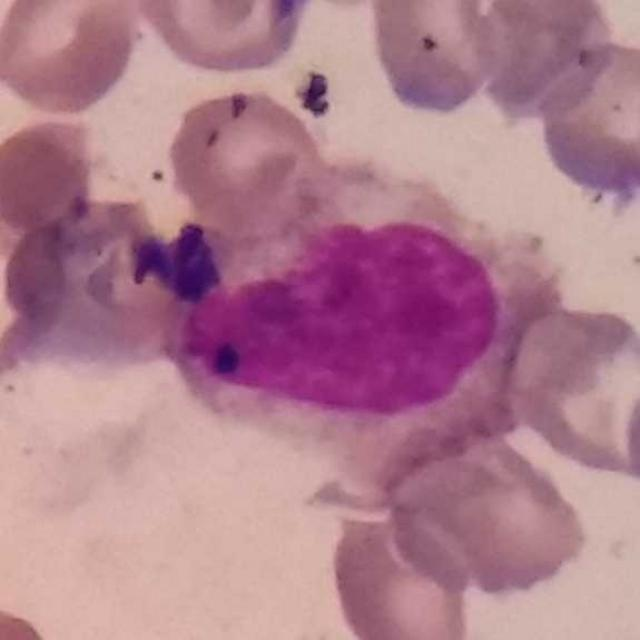mono: (165, 160, 576, 476)
